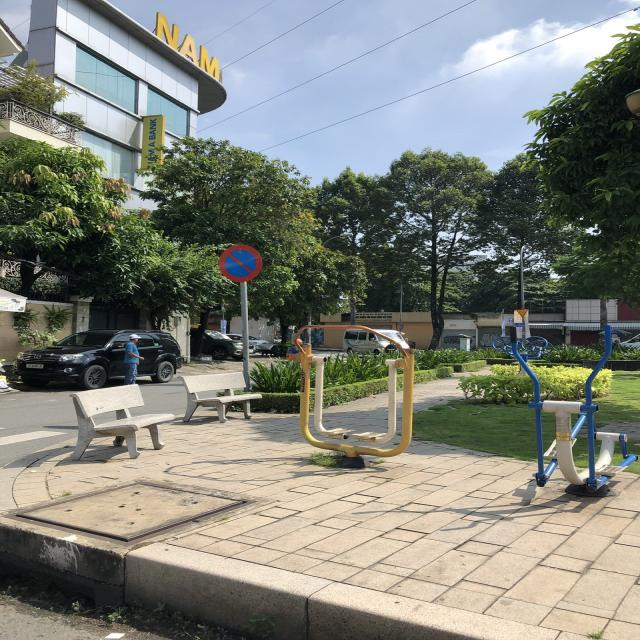Bien bao cam do xe: (213, 244, 269, 286)
